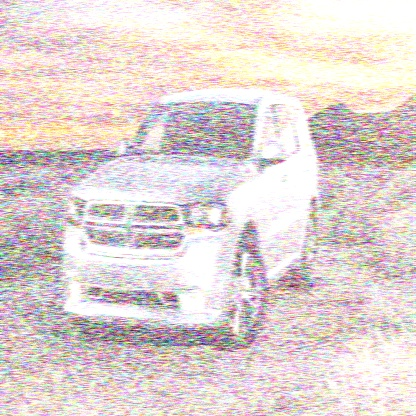Vehicle: (60, 87, 324, 357)
